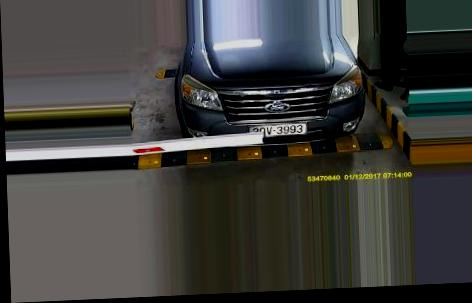License_Plate: (247, 120, 310, 140)
